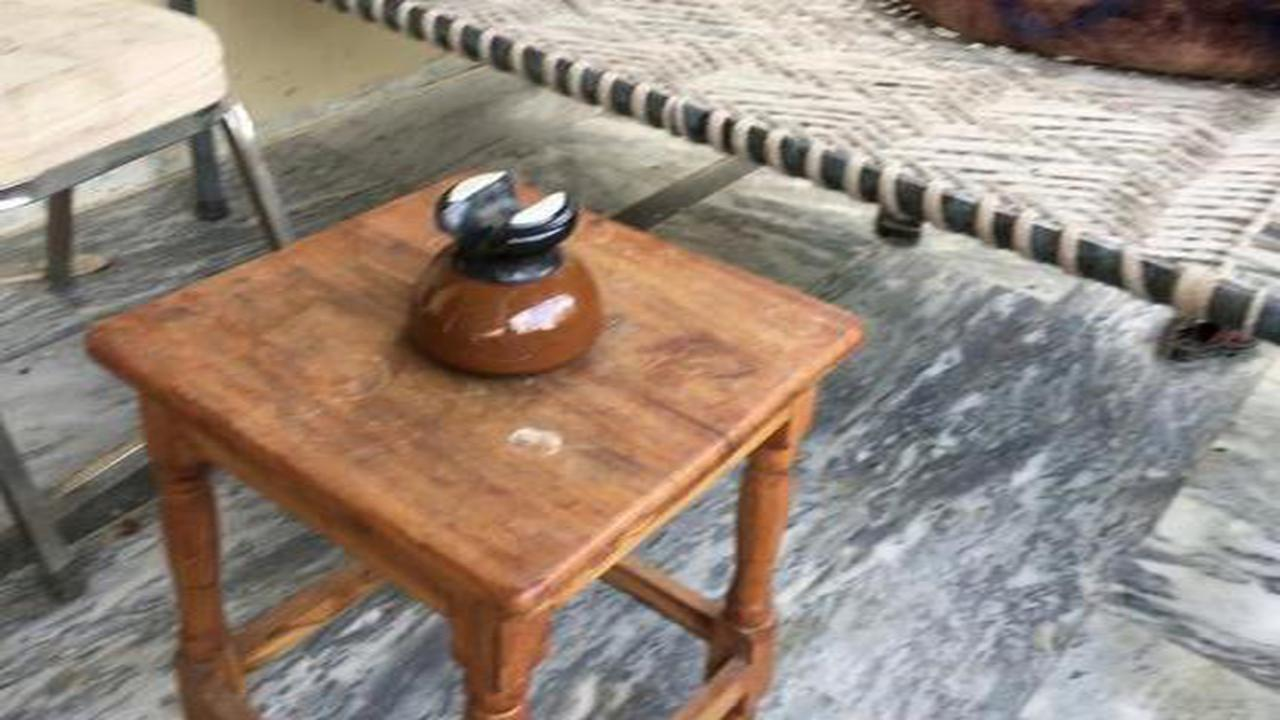insulator_pin: (382, 153, 625, 390)
